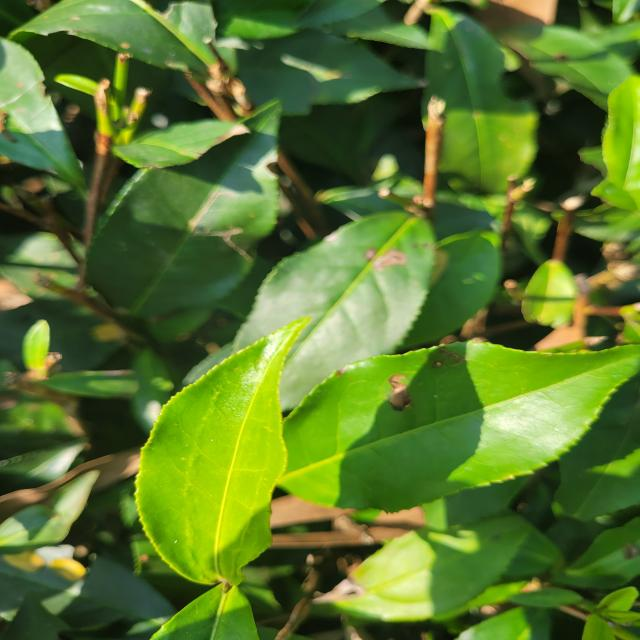Catagory A(1-2 days): (111, 298, 324, 594)
